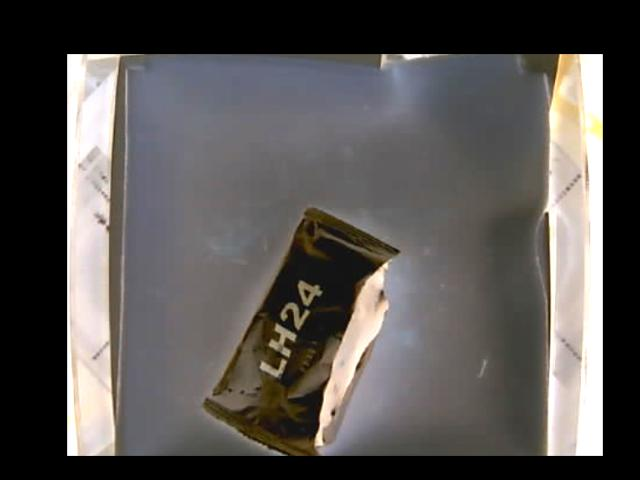Medicine: (202, 204, 400, 455)
